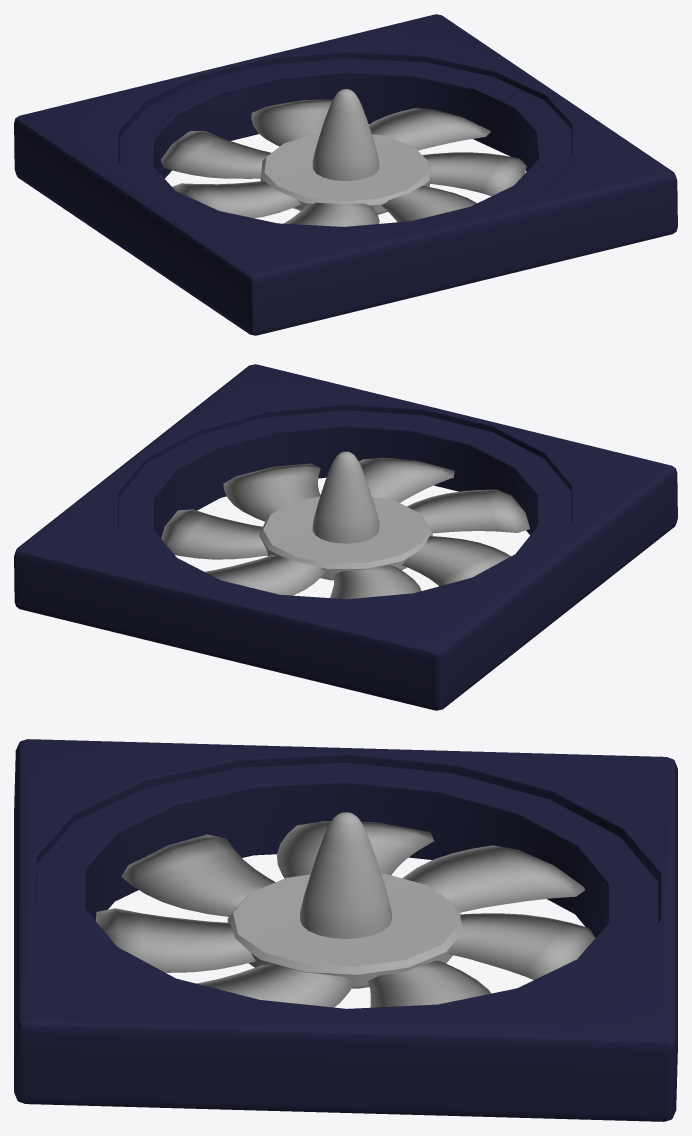
Rendered from fun.fbx.
3 renders of one model, top to bottom at view 1: azimuth 30°, elevation 25°; view 2: azimuth 150°, elevation 25°; view 3: azimuth 270°, elevation 25°, orthographic. The views are drawn at different scales.
Visible parts, largest first — view 1: fun_base, fun; view 2: fun_base, fun; view 3: fun_base, fun.
Boxes of the visible parts, x1,y1,x2,y2 form: fun_base: (14,14,677,335); fun: (161,89,526,226); fun_base: (14,364,677,710); fun: (161,451,529,599); fun_base: (14,739,677,1121); fun: (96,812,595,1007).
Size of the model in its own units: 103 by 28.19 by 101.
